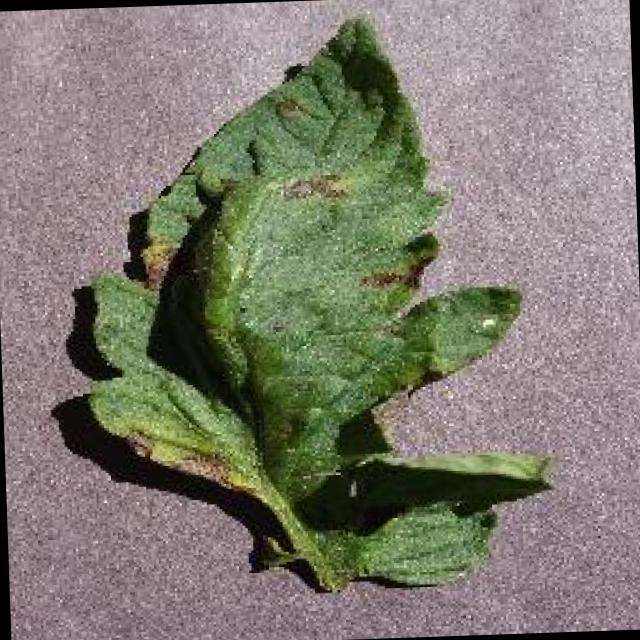Tomato_Early_Blight: (55, 12, 493, 570)
